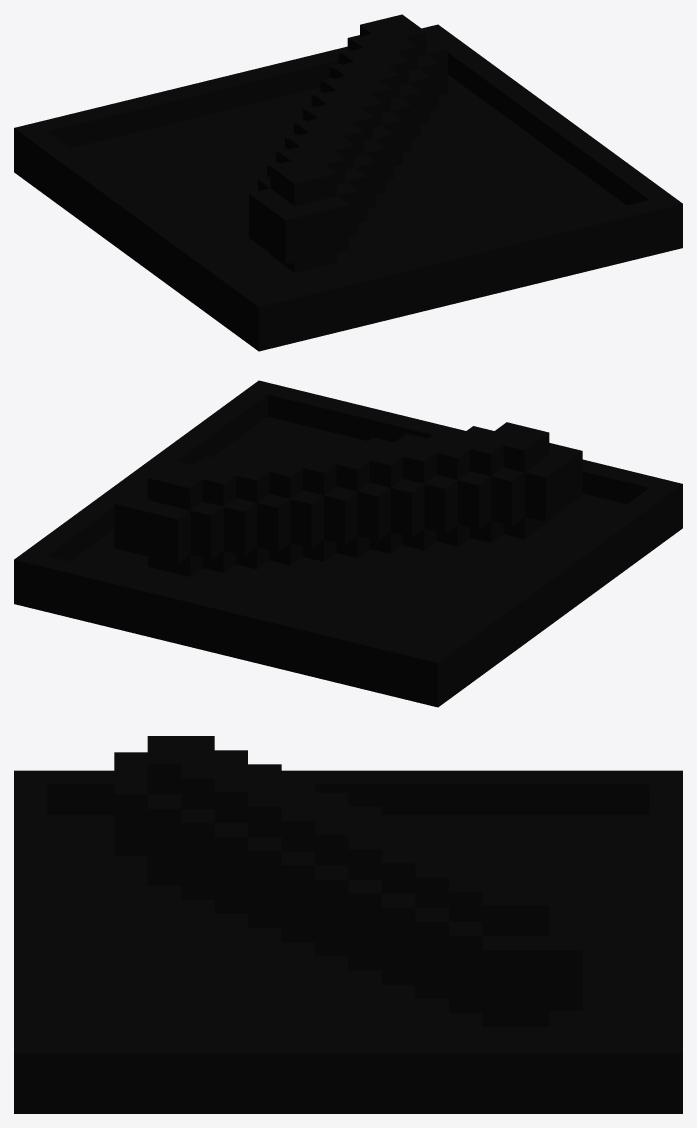
File: Cucumber.obj
The picture shows the model from 3 angles, top to bottom: view 1: azimuth 30°, elevation 25°; view 2: azimuth 150°, elevation 25°; view 3: azimuth 270°, elevation 25°; orthographic projection. The views are drawn at different scales.
Size of the model in its own units: 2 by 0.6 by 2.
